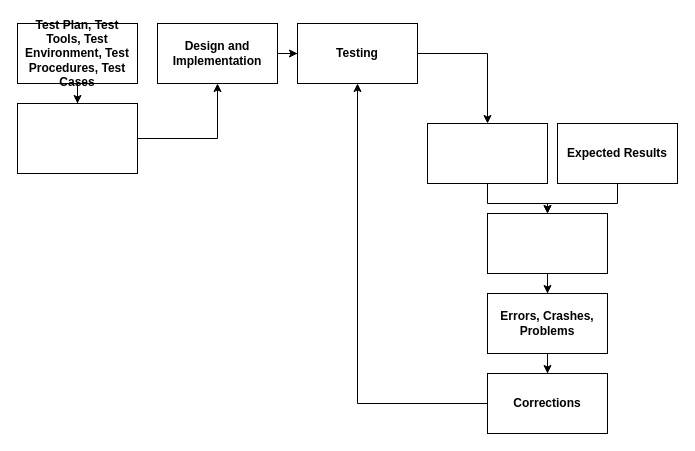
The diagram is 695 pixels wide and 451 high, and some of its shapes have lost their labels. Here are the shapes that lost their labels. From the top down, the centre of each, then its label:
the point at 77,138: Software Requirement Specification (SRS), Configuration Management (CM)
the point at 487,153: Test Results
the point at 547,243: Evaluation of Test Results
